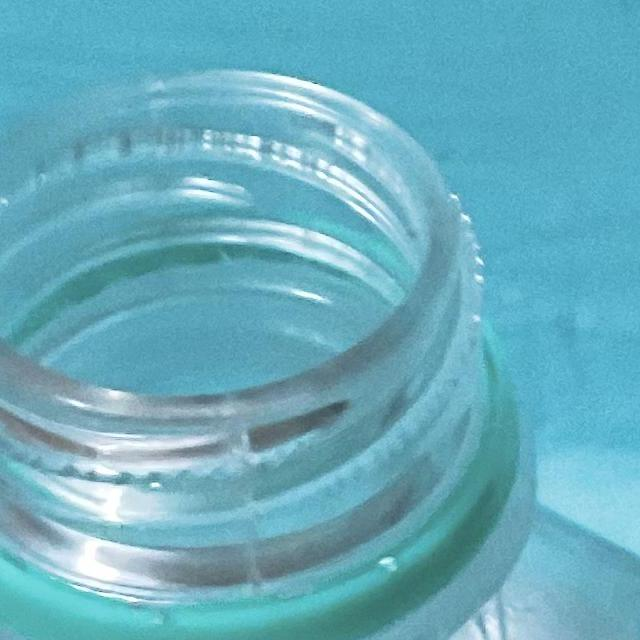open-cap: (0, 50, 537, 640)
